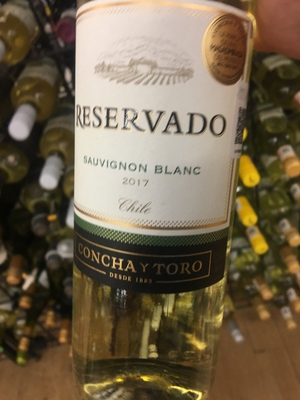reservado sauvignon blanc: (71, 7, 259, 399)
